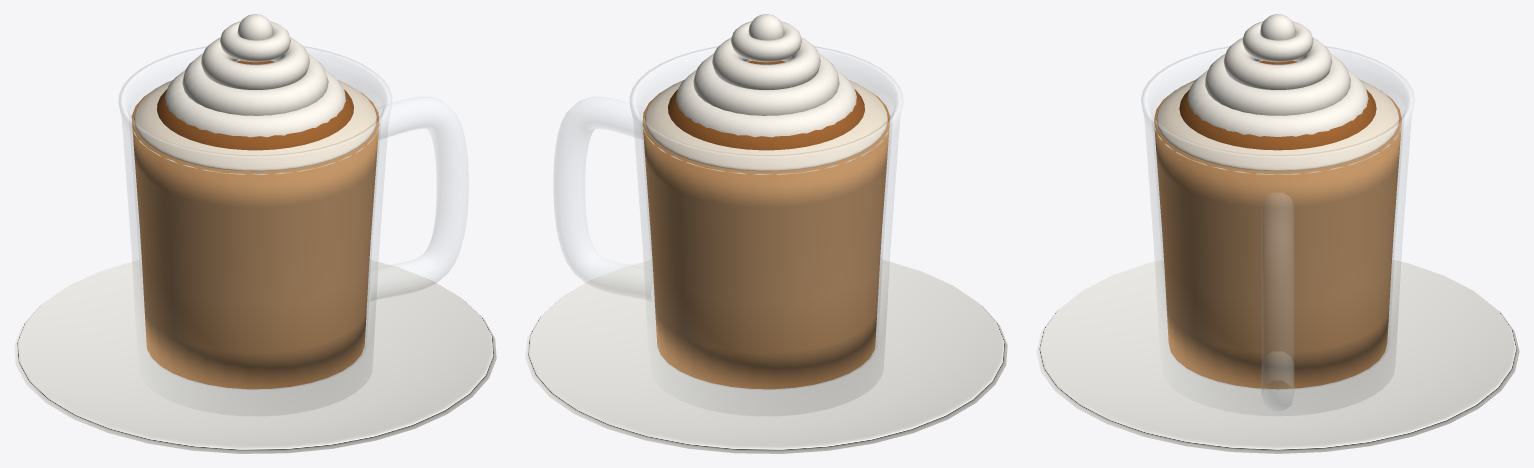
File: alba-pumpkin-spice-latte.glb
The picture shows the model from 3 angles, left to right: view 1: azimuth 30°, elevation 25°; view 2: azimuth 150°, elevation 25°; view 3: azimuth 270°, elevation 25°; orthographic projection.
Size of the model in its own units: 0.1485 by 0.1246 by 0.148.
